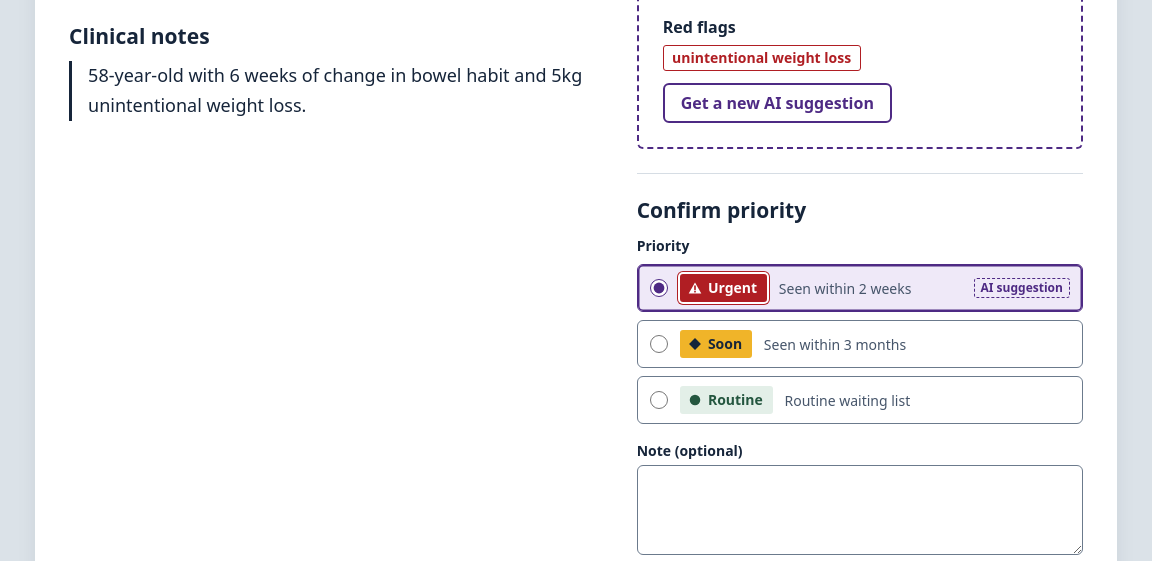
Test: referral detail › lets the clinician change the priority away from the suggestion
The image size is (1152, 561).
(page scrolled)
Click the radio button labelled "Soon Seen within 3 months" at {"x": 659, "y": 344}, box [650, 335, 668, 353]
(page scrolled)
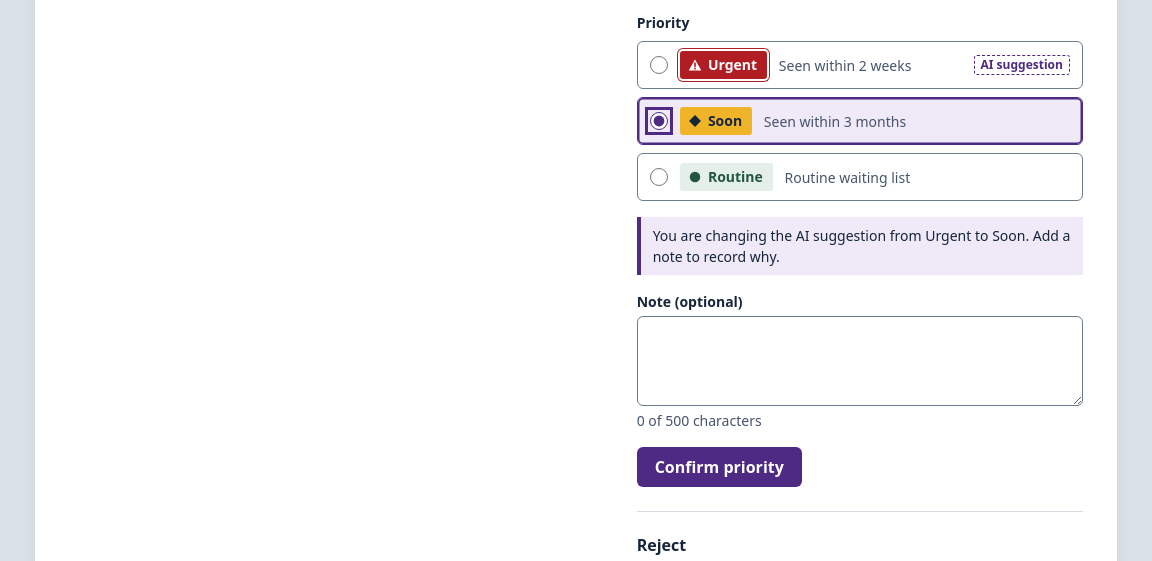
Result: the text "changing the AI suggestion from Urgent to Soon" is shown at [637, 217, 1083, 275]
Click the button "Confirm priority" at {"x": 719, "y": 467}, box [637, 447, 802, 487]
(page scrolled)
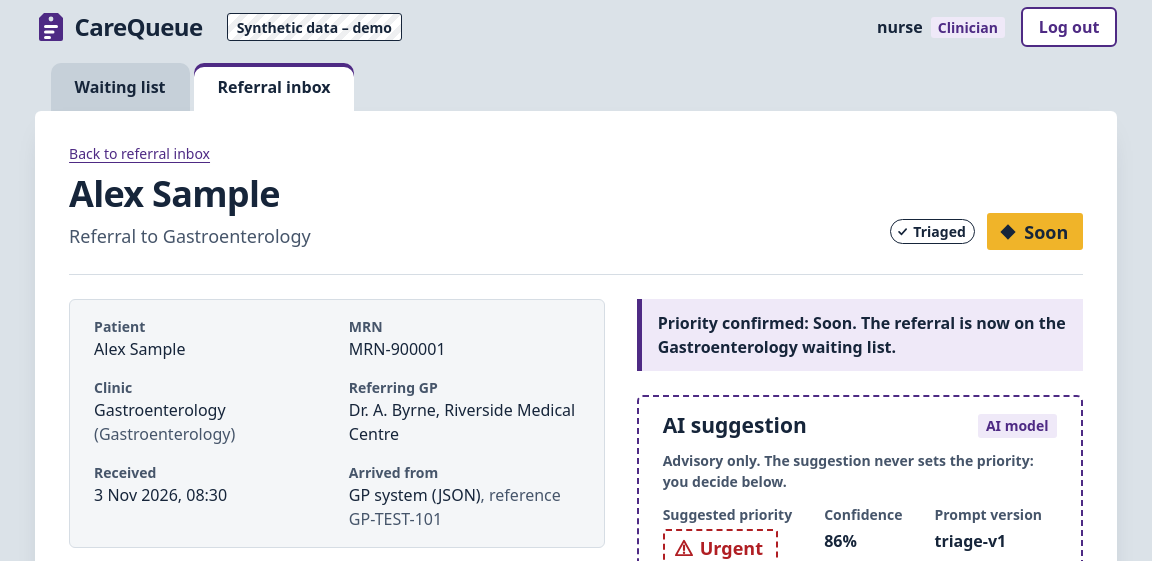
Result: the text "Priority confirmed: Soon" is shown at [658, 312, 1066, 358]
